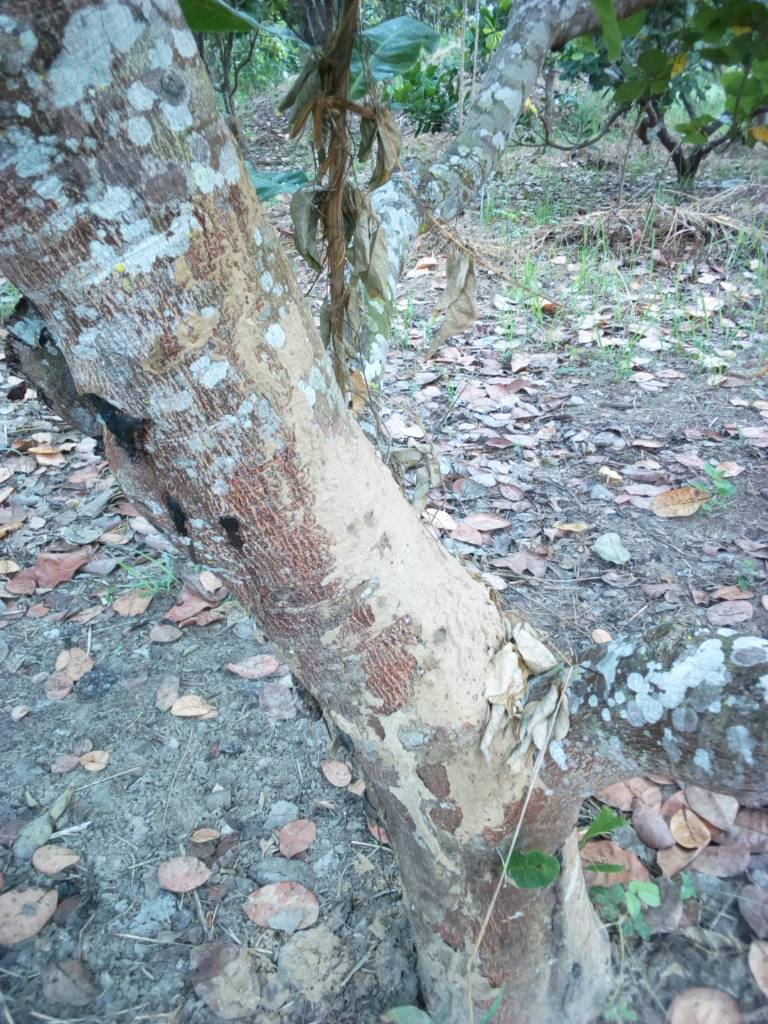Termites: (208, 246, 521, 749)
